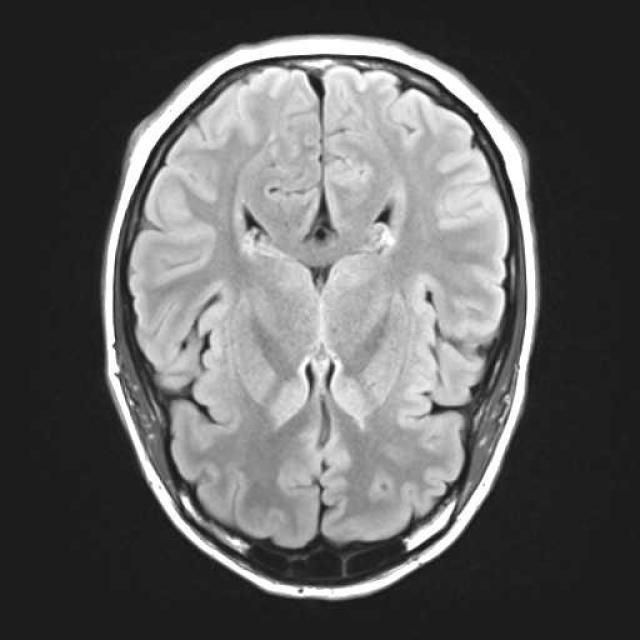notumor: (102, 38, 538, 600)
